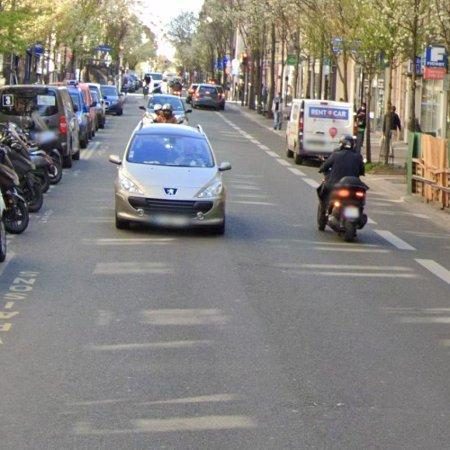motorcycles: (327, 176, 369, 241)
